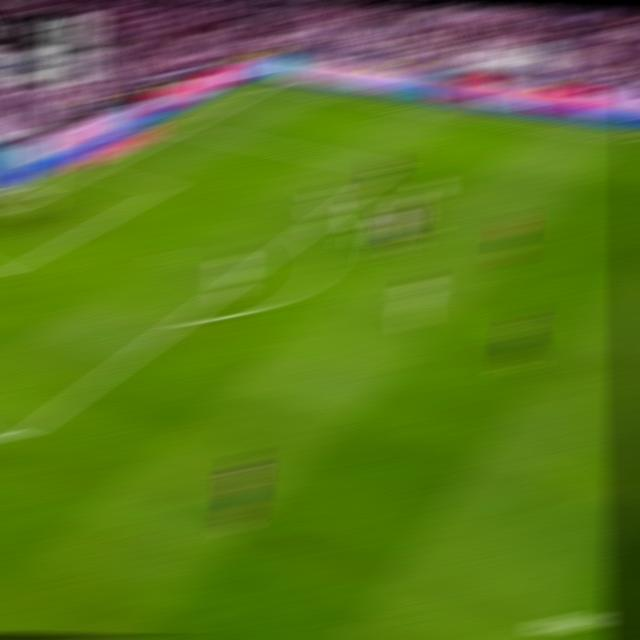bigarea_bottom_inner: (3, 425, 33, 451)
bigarea_top_inner: (378, 160, 403, 175)
bigarea_top_outter: (172, 122, 196, 133)
bottom_arc_area_intersection: (168, 309, 196, 330)
corner: (257, 78, 284, 89)
smallarea_top_inner: (150, 182, 175, 193)
top_arc_area_intersection: (294, 220, 321, 237)
